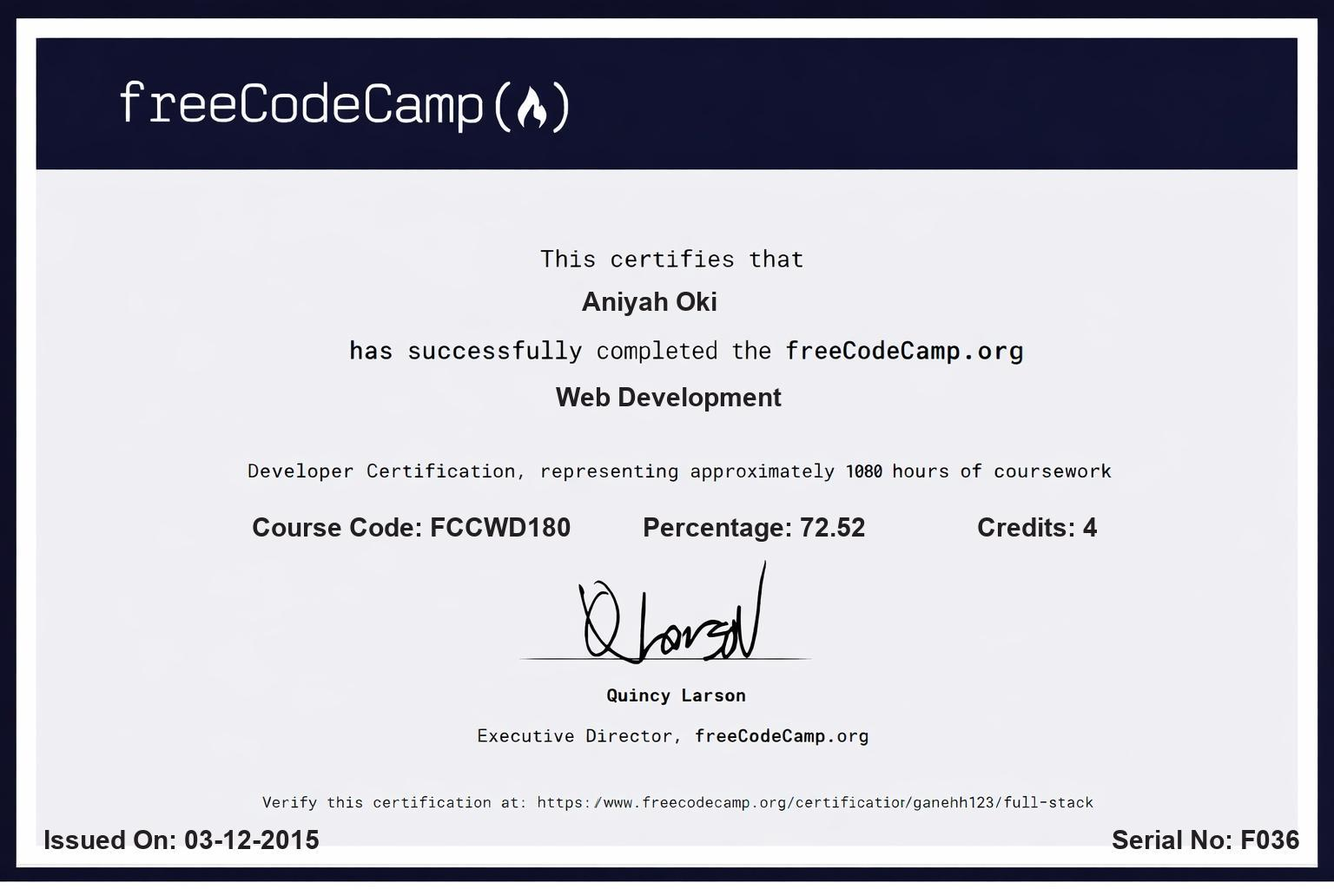Course Code: (424, 505, 586, 551)
Course Name: (550, 375, 797, 419)
Credits: (1077, 507, 1107, 545)
Issued On: (178, 821, 327, 860)
Percentage: (795, 502, 879, 551)
Serial No: (1233, 819, 1309, 856)
Student Name: (573, 283, 733, 323)
